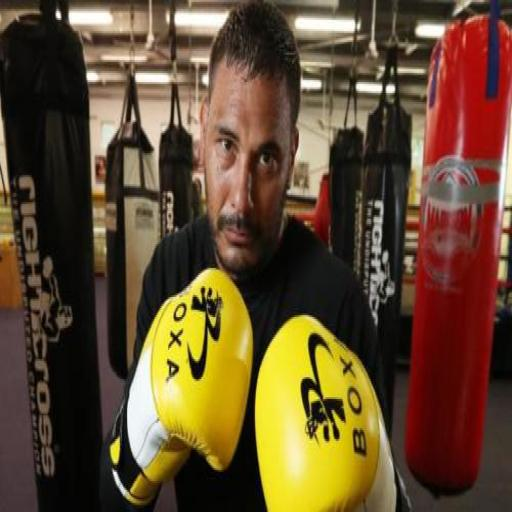boxing: (67, 16, 466, 512)
